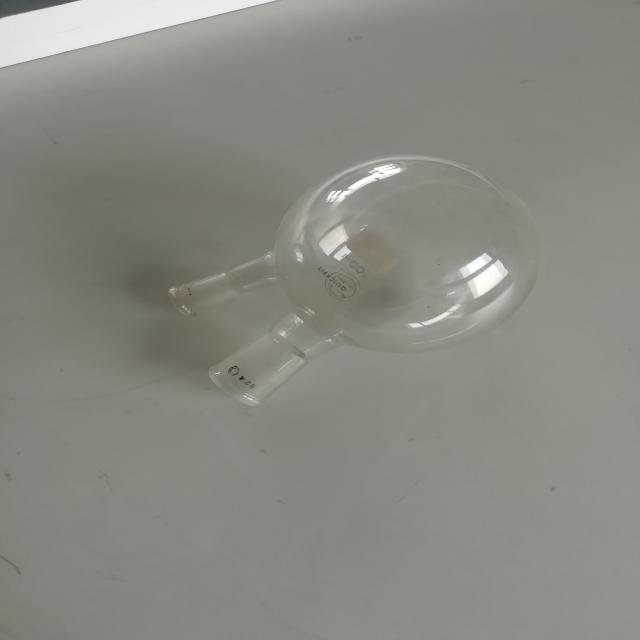Round_Bottom_Flask_Borosilicate_Glass_2_Neck: (84, 123, 595, 444)
